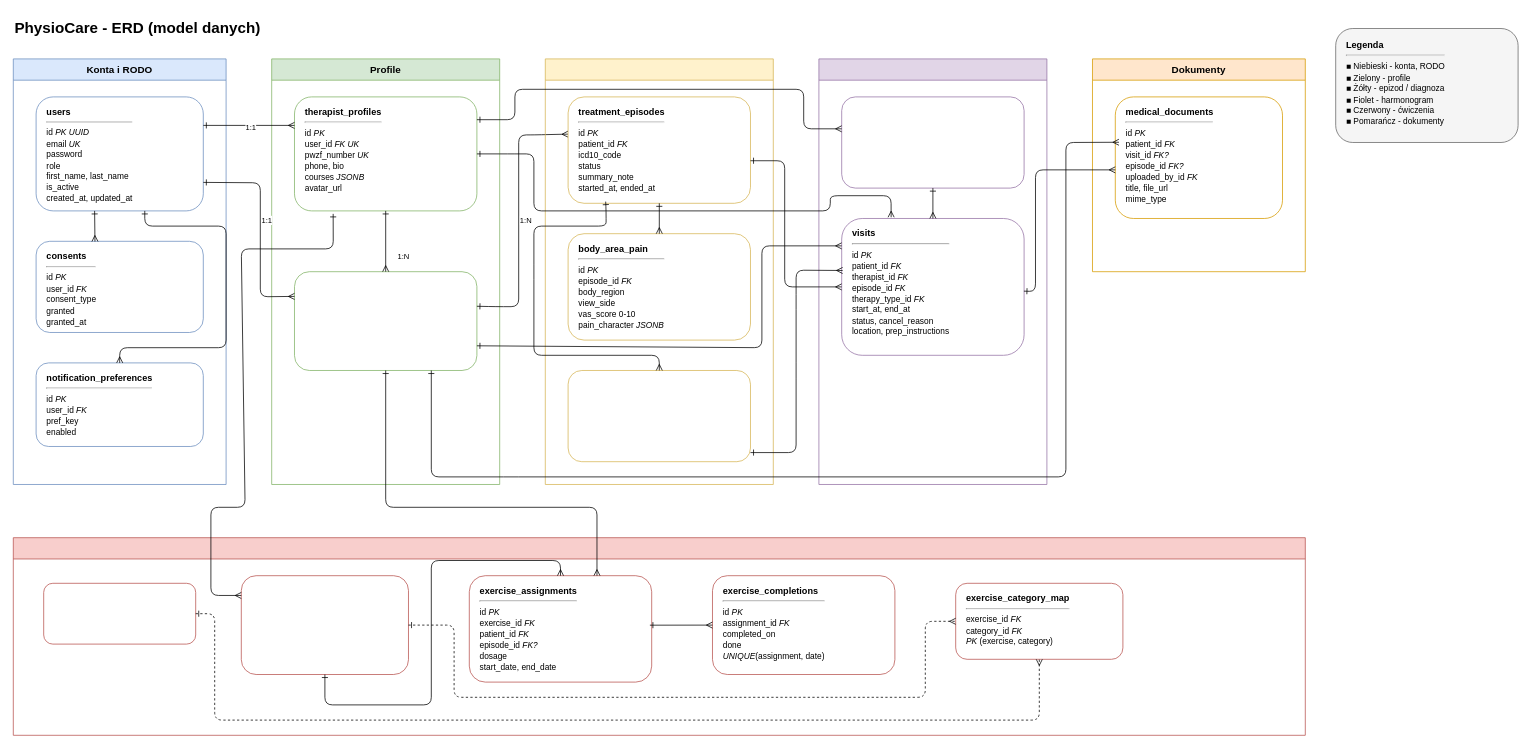
Some shapes in this 1531 by 749 pixel diagram are drawn without their labels. Here are the shapes that lost their labels. From the top down, the box of each, then its label:
(841, 96, 1024, 188): therapy_types id PK therapist_id FK name color_hex duration_min
(545, 58, 773, 484): Epizod leczenia
(818, 58, 1047, 484): Harmonogram
(294, 271, 477, 370): patient_profiles id PK user_id FK UK therapist_id FK pesel, phone avatar_url
(567, 370, 750, 462): visit_notes id PK episode_id FK visit_id FK? content created_at
(43, 583, 196, 644): exercise_categories id PK name UK
(241, 575, 408, 674): exercises id PK therapist_id FK title media_type file_url, instruction
(13, 537, 1305, 735): Ćwiczenia i compliance
